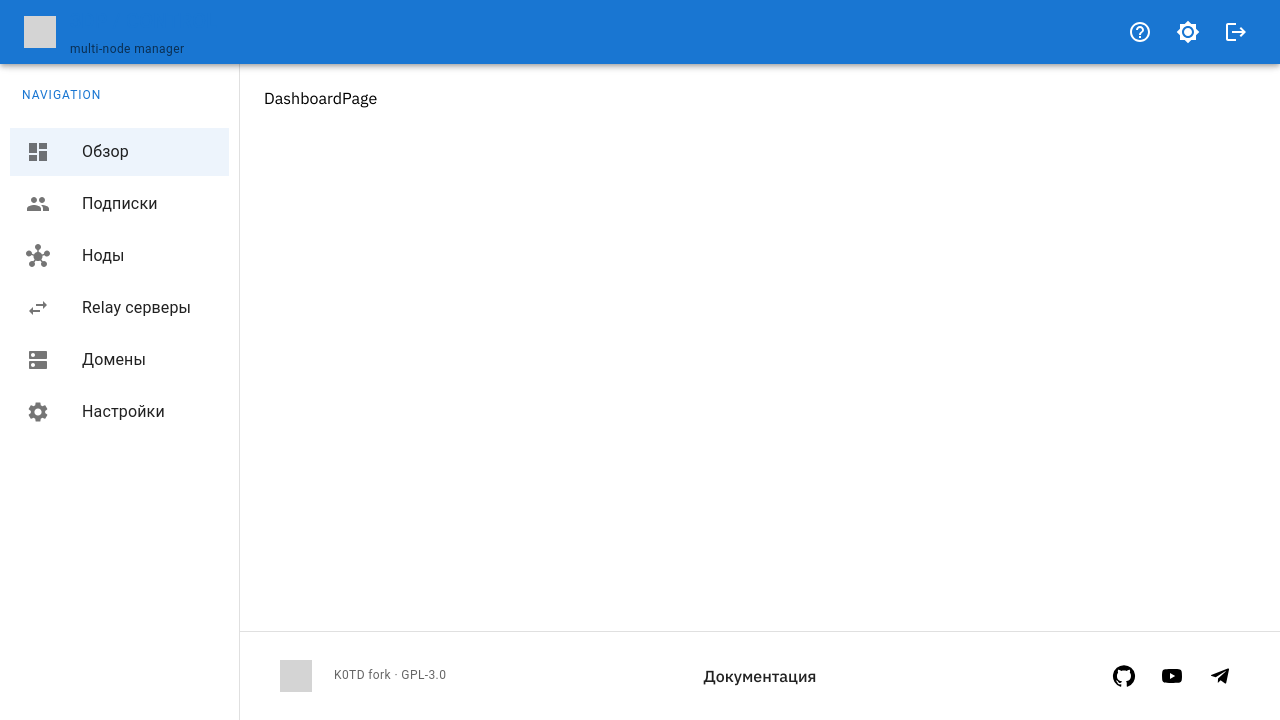
Test: Layout › должен переходить на страницу доменов при клике на "Домены"
Step 1. Click the button "Домены" → (86, 360), box [26,348,146,372]
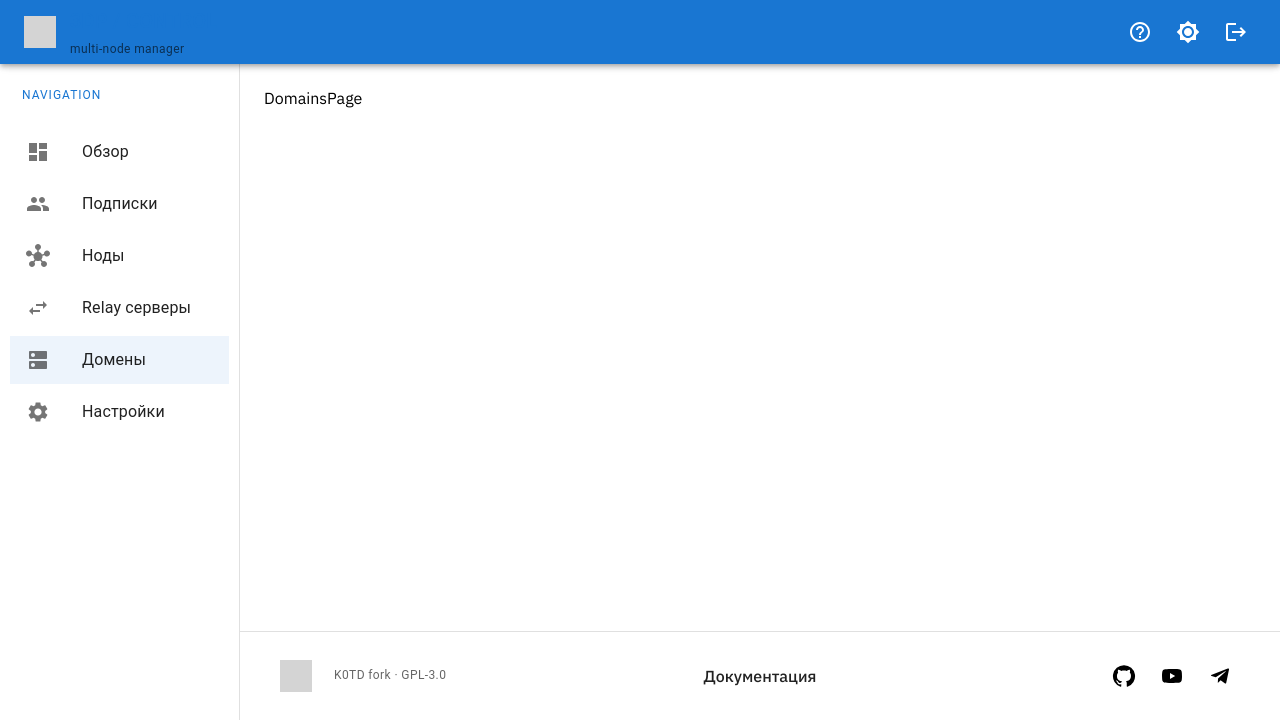
Check: the text "DomainsPage" is shown, box [264,88,362,108]
